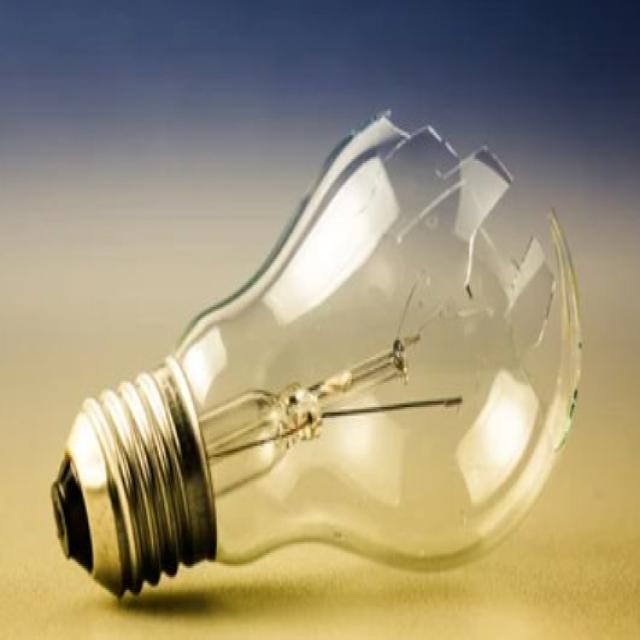electronic: (49, 107, 584, 601)
